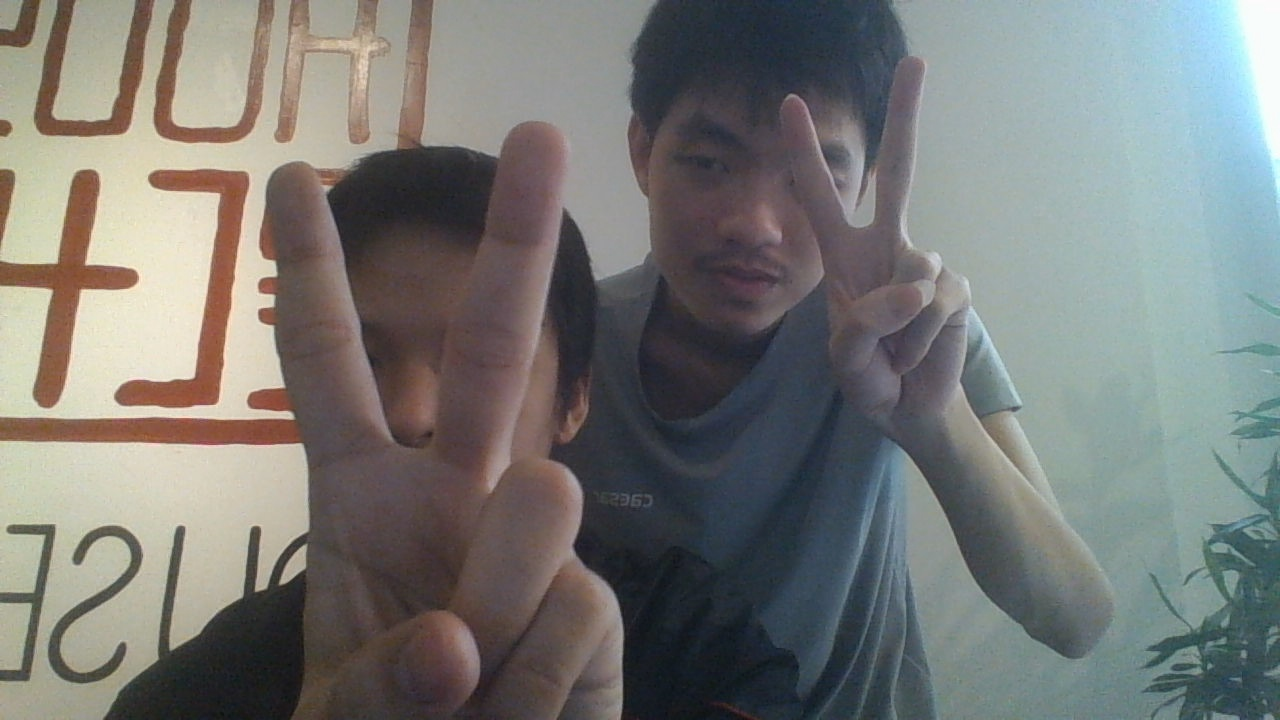wait: (265, 118, 624, 720), (780, 53, 970, 431)
